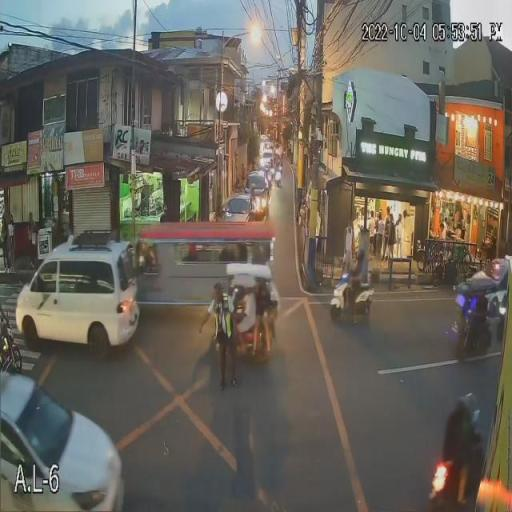helmet: (354, 247, 366, 264)
motorcycle: (329, 284, 375, 320)
rider: (350, 262, 368, 322)
